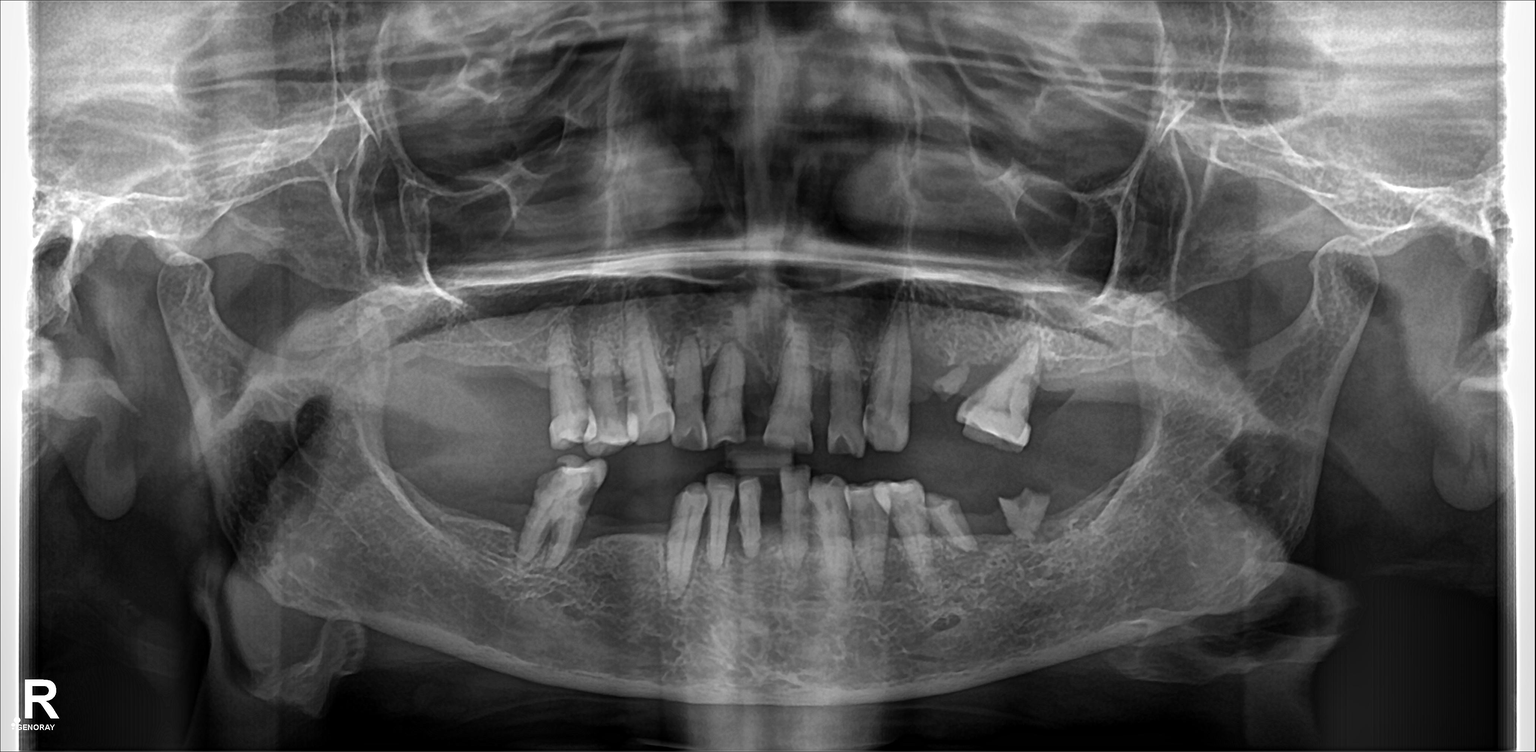Missing Tooth: (438, 333, 477, 447), (391, 335, 428, 438), (622, 506, 661, 603), (1041, 344, 1077, 442), (408, 477, 459, 542), (480, 339, 514, 435), (1117, 344, 1149, 444), (1076, 344, 1110, 438), (963, 480, 1004, 557), (1067, 478, 1108, 553), (587, 508, 621, 596), (464, 478, 502, 556), (520, 337, 553, 420), (508, 480, 532, 566)
Retained Root: (918, 344, 965, 442), (1011, 475, 1052, 554)
